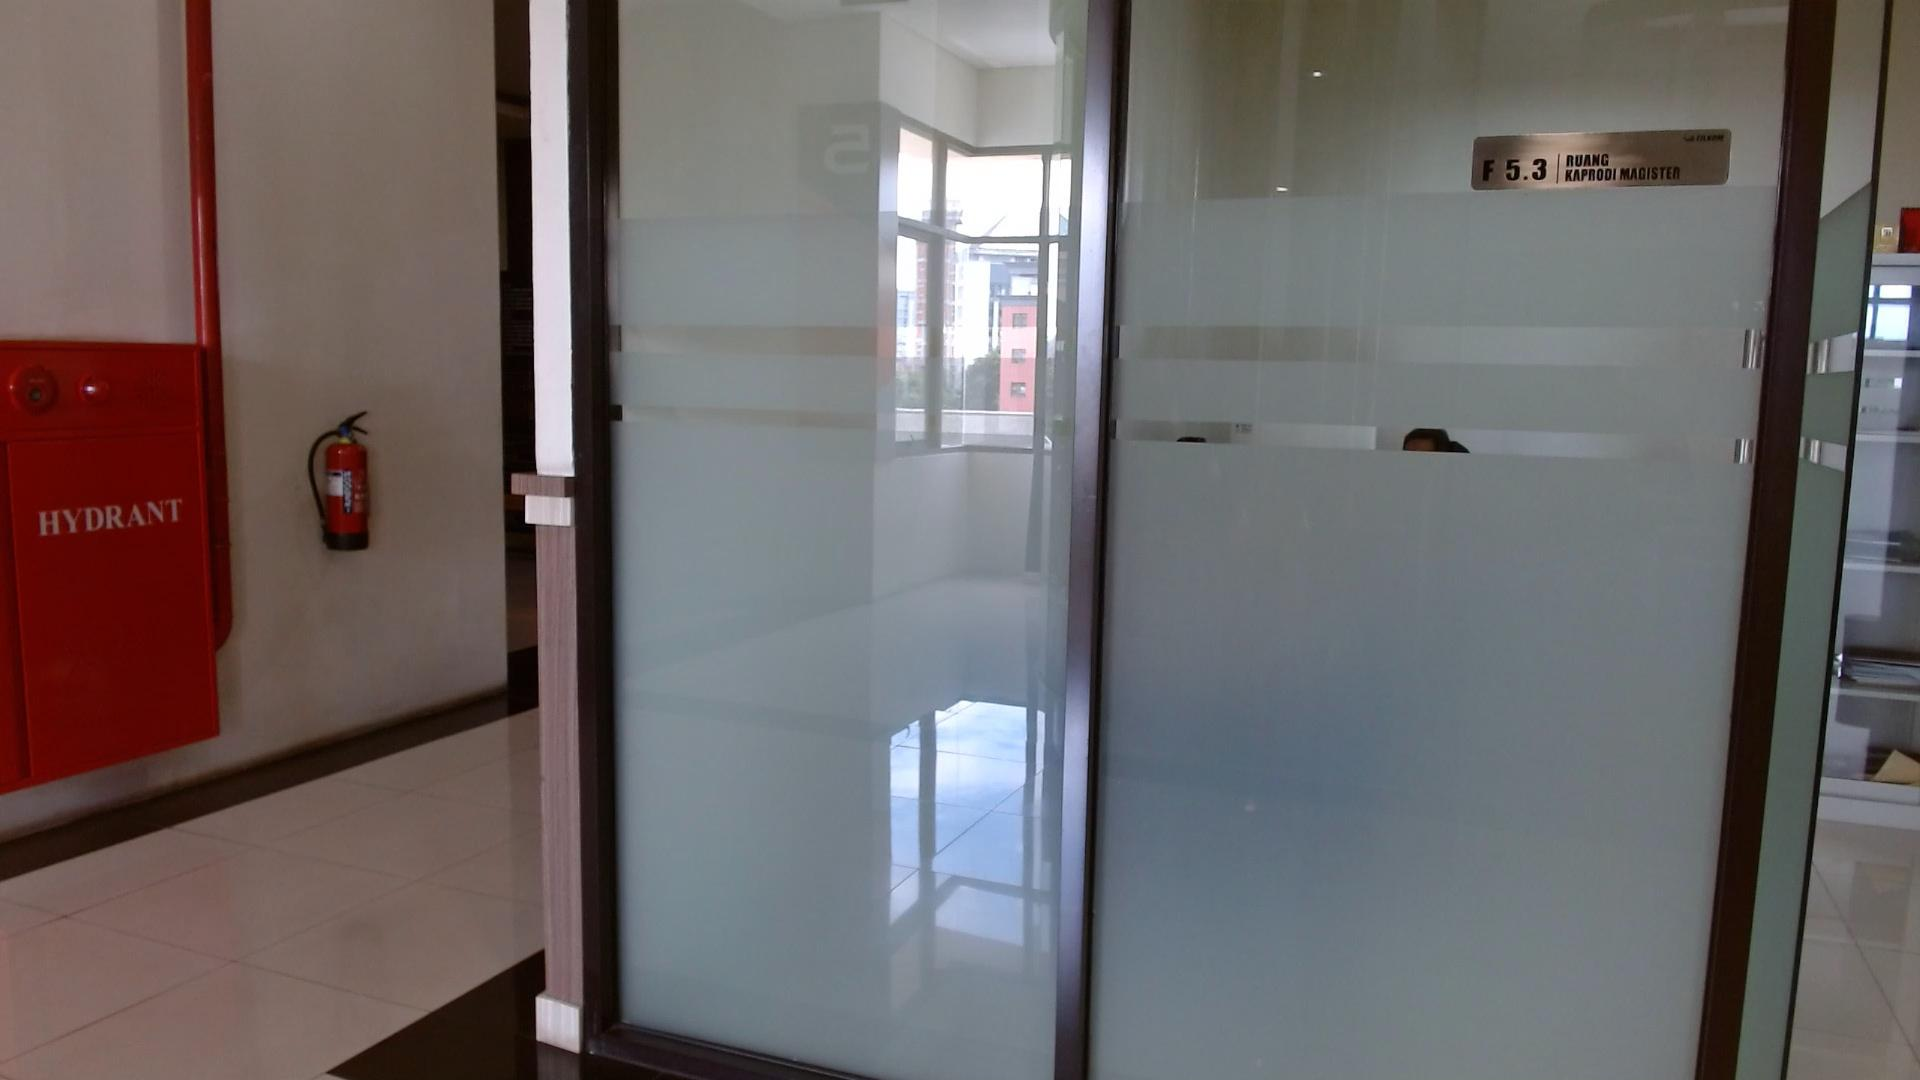plate: (1470, 128, 1733, 190)
